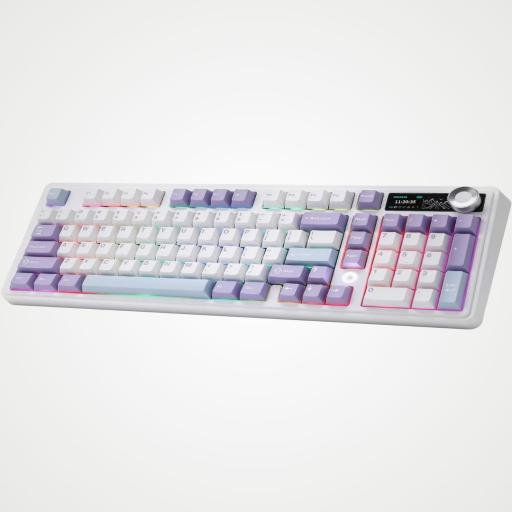KEYBOARD-2: (0, 163, 505, 343)
